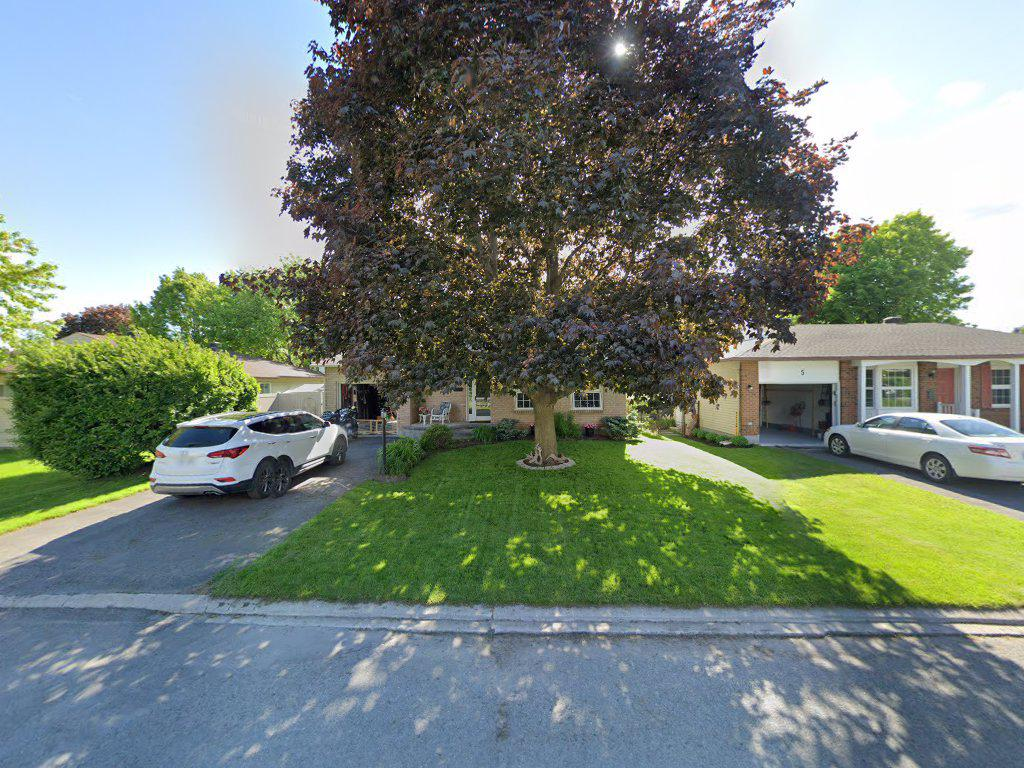trunk: (522, 367, 566, 484)
